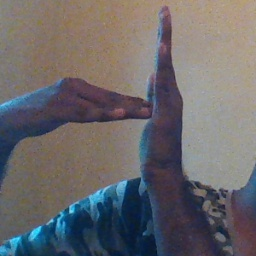Z: (74, 3, 197, 183)
